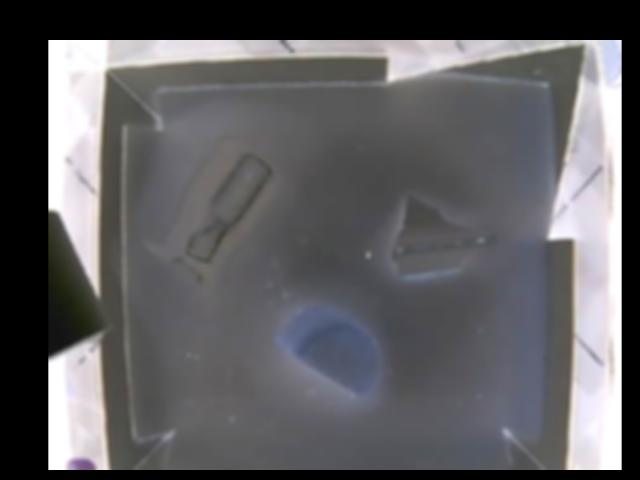Bottle: (141, 144, 283, 292)
China: (391, 194, 496, 277)
Mooli: (275, 306, 383, 391)
